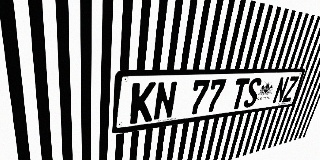7: (187, 80, 210, 116), (204, 79, 226, 114)
K: (129, 82, 156, 124)
N: (153, 81, 178, 121), (272, 76, 290, 104)
S: (243, 78, 262, 108)
T: (229, 78, 250, 110)
Z: (282, 76, 299, 102)
